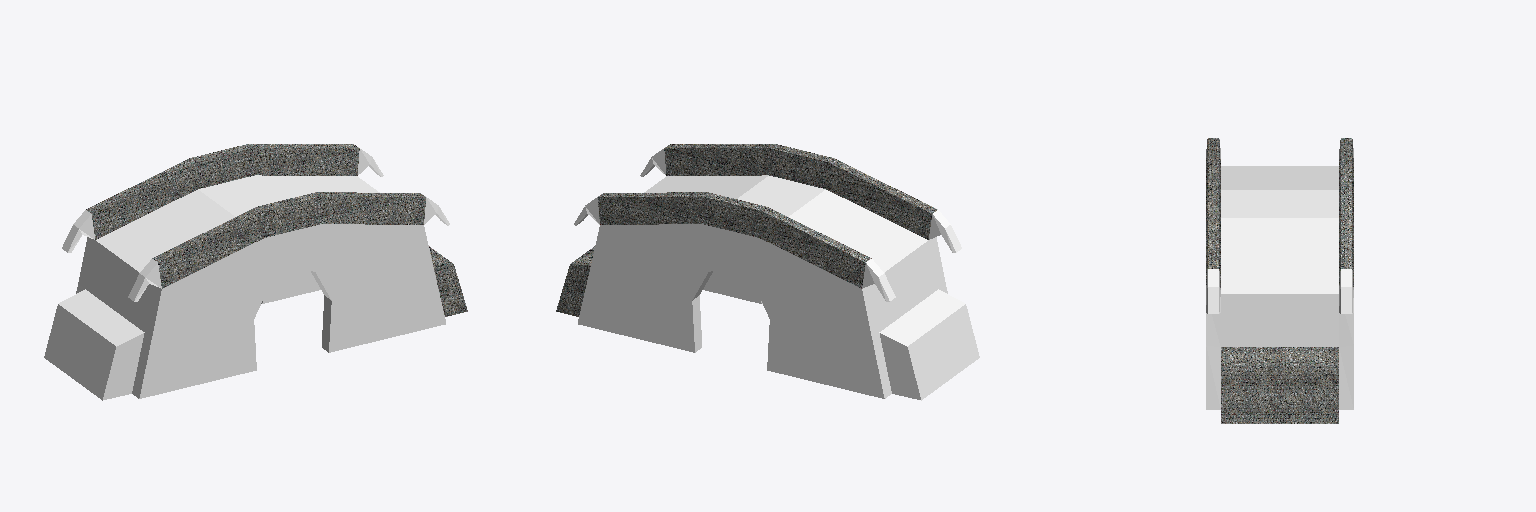
3 renders of one model, left to right at view 1: azimuth 30°, elevation 25°; view 2: azimuth 150°, elevation 25°; view 3: azimuth 270°, elevation 25°, orthographic.
Parts seen in each view (by area): view 1: TexturesCom_FloorsMedieval0051_M, TexturesCom_FloorsMedieval0053_1_M; view 2: TexturesCom_FloorsMedieval0051_M, TexturesCom_FloorsMedieval0053_1_M; view 3: TexturesCom_FloorsMedieval0051_M, TexturesCom_FloorsMedieval0053_1_M.
Part boxes in pixels (left/top/right/bottom): TexturesCom_FloorsMedieval0051_M: left=44, top=147, right=449, bottom=400; TexturesCom_FloorsMedieval0053_1_M: left=86, top=144, right=467, bottom=316; TexturesCom_FloorsMedieval0051_M: left=574, top=147, right=979, bottom=400; TexturesCom_FloorsMedieval0053_1_M: left=556, top=144, right=937, bottom=316; TexturesCom_FloorsMedieval0051_M: left=1206, top=139, right=1353, bottom=409; TexturesCom_FloorsMedieval0053_1_M: left=1206, top=138, right=1353, bottom=423.
Size of the model in its own units: 14.27 by 5.87 by 5.
Materials: 2 (1 with a texture image).